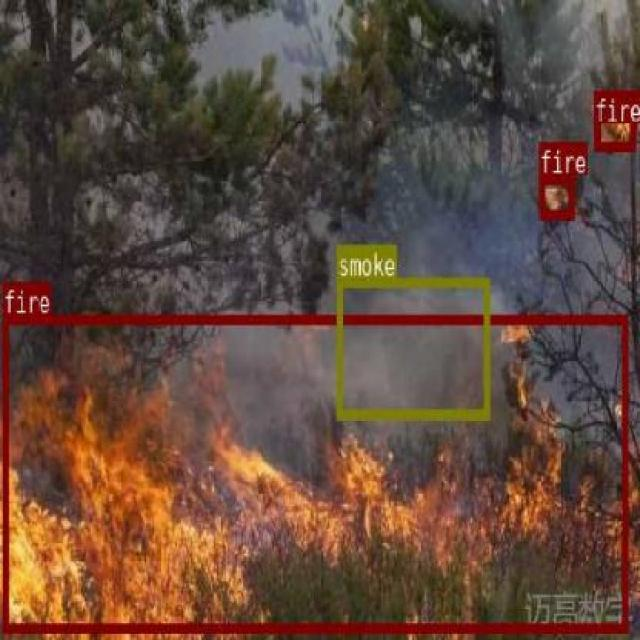Fire: (1, 312, 628, 631), (593, 89, 635, 149), (539, 174, 573, 217)
Smoke: (336, 275, 489, 417)
